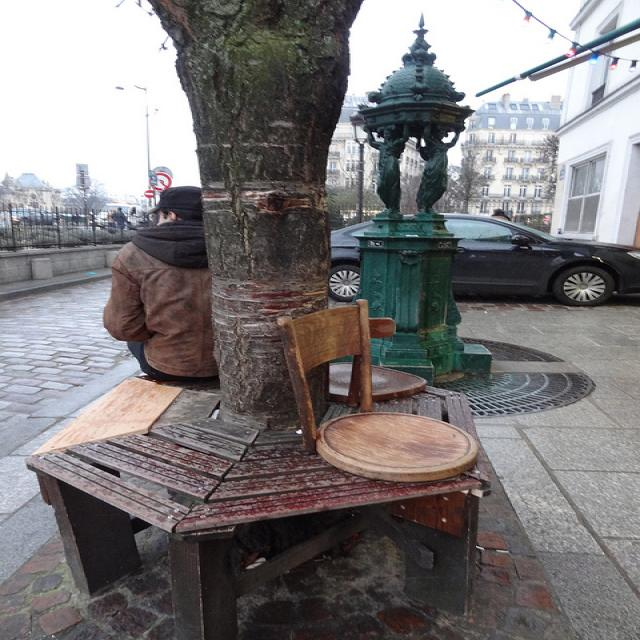Vehicle: (328, 212, 640, 306)
